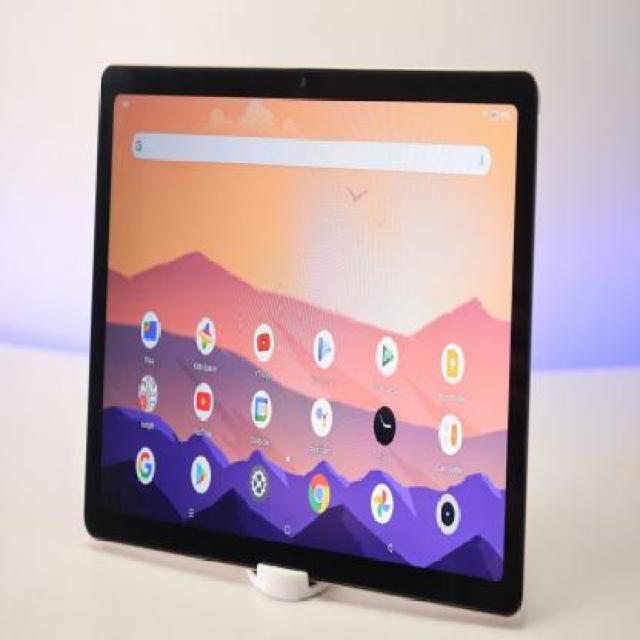tablet: (56, 40, 566, 637)
